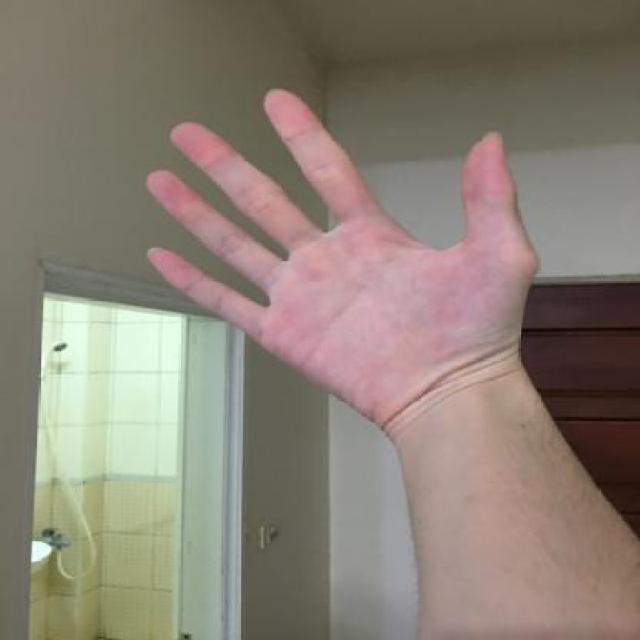bare_hand: (128, 74, 550, 433)
